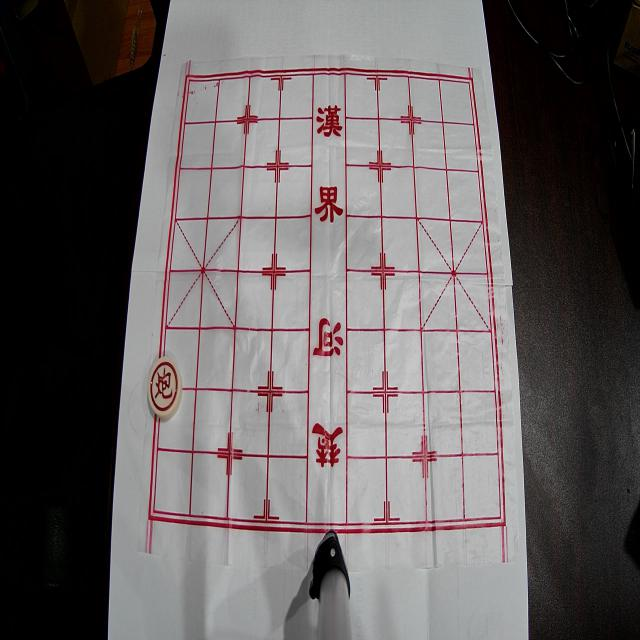red-cannon: (148, 356, 182, 419)
